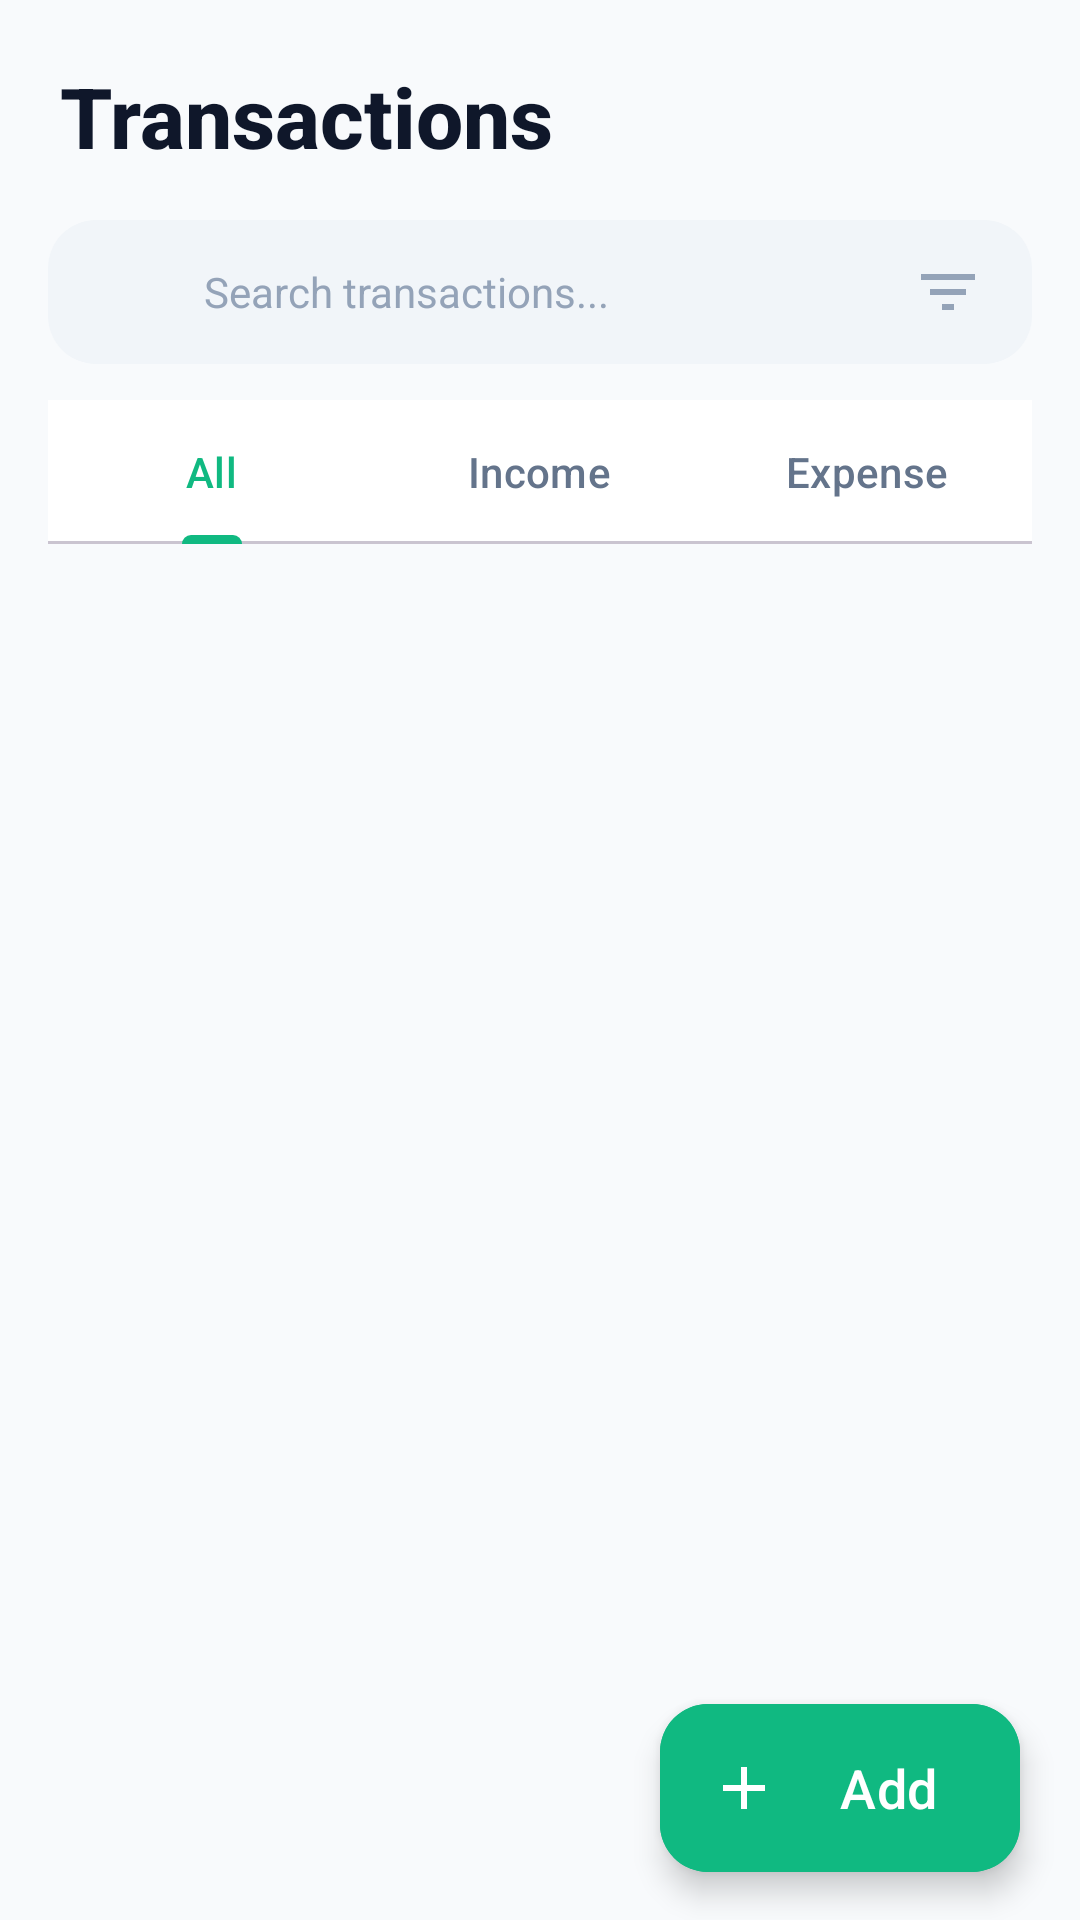

Where icons sit on this 1080 × 1920 app screen, as (x1, y1, x2, y2):
filter: (921, 274, 975, 310)
